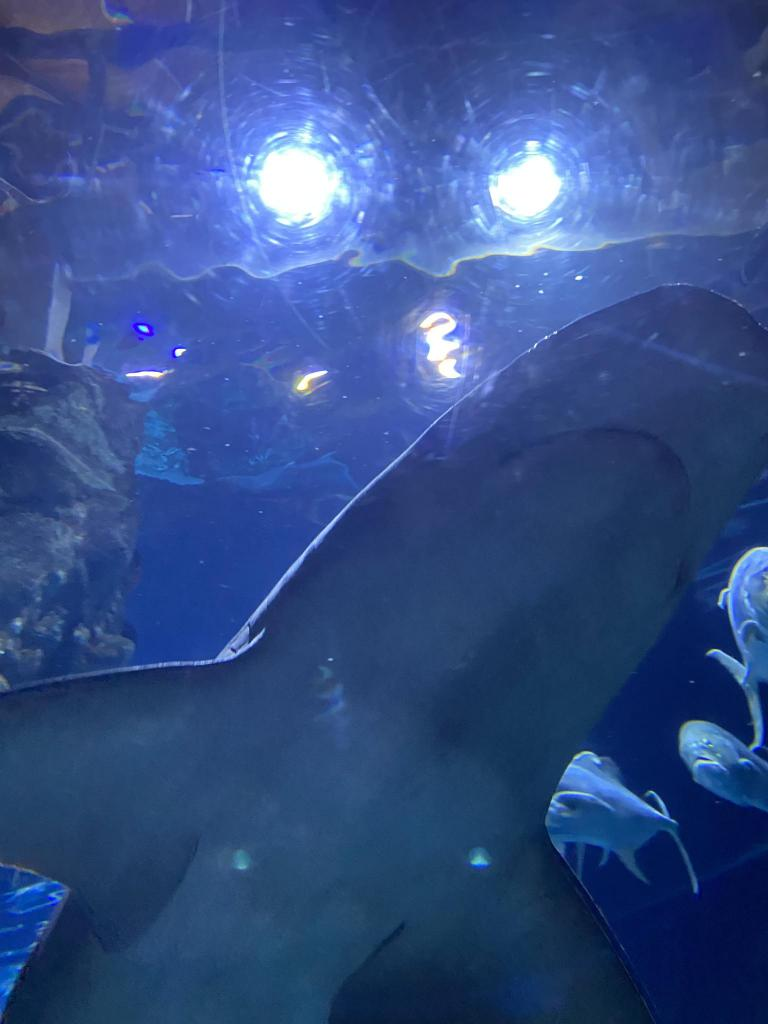fish: (533, 749, 699, 895), (709, 546, 767, 754), (680, 720, 768, 812)
shark: (0, 279, 767, 1024)
